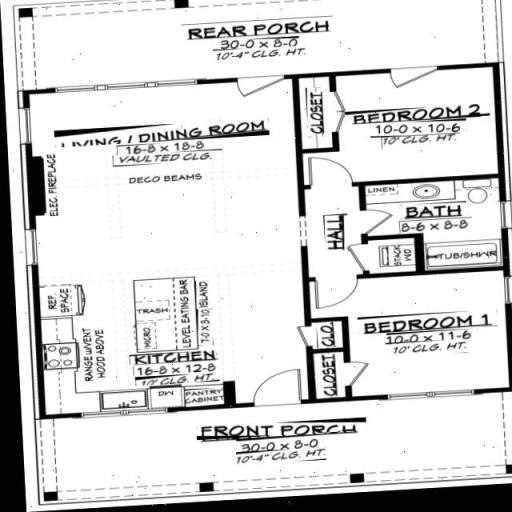Room: (25, 88, 296, 276)
bathroom: (358, 182, 512, 276)
bedroom: (358, 283, 496, 397), (347, 85, 506, 176)
closet: (295, 72, 338, 147), (311, 319, 355, 392)
hall: (302, 160, 352, 311)
kitchen: (39, 274, 295, 407)
porch: (28, 1, 512, 77), (48, 422, 512, 499)
